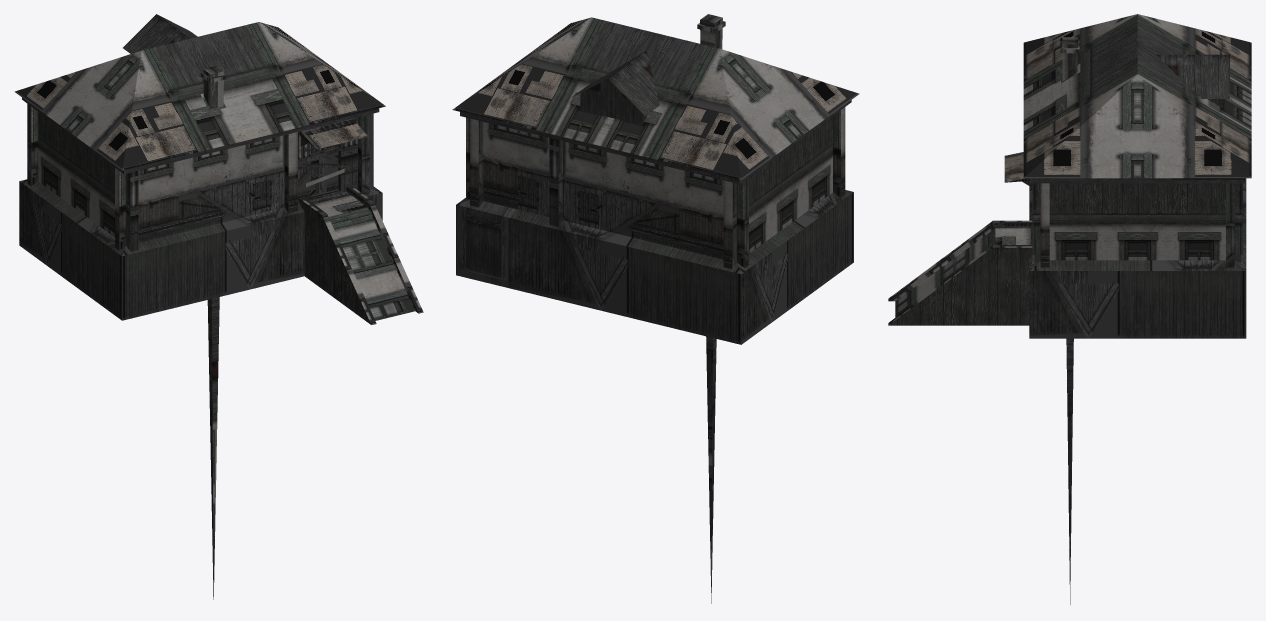
The model's file is RurHut_04.FBX.
3 renders of one model, left to right at view 1: azimuth 30°, elevation 25°; view 2: azimuth 150°, elevation 25°; view 3: azimuth 270°, elevation 25°, orthographic. The views are drawn at different scales.
Parts seen in each view (by area): view 1: hut; view 2: hut; view 3: hut.
Boxes of the visible parts, x1,y1,x2,y2 form: hut: (14,14,423,599); hut: (452,14,859,603); hut: (888,14,1251,604).
Size of the model in its own units: 8.07 by 15.86 by 9.12.
